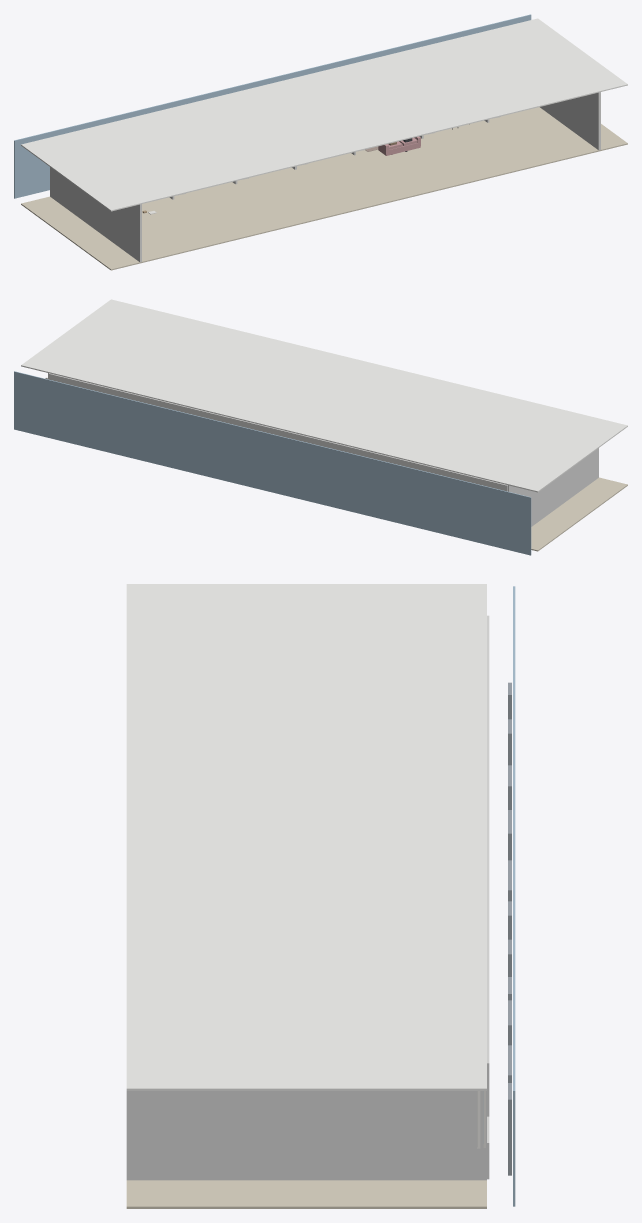
3 renders of one model, top to bottom at view 1: azimuth 30°, elevation 25°; view 2: azimuth 150°, elevation 25°; view 3: azimuth 270°, elevation 25°, orthographic. The views are drawn at different scales.
Parts seen in each view (by area): view 1: ceiling, floor, city_sky, endwall_L, endwall_R; view 2: ceiling, city_sky, floor, endwall_L, wall_above_0, wall_above_4, wall_above_5, wall_above_1, wall_above_2, wall_above_3, wall_above_6; view 3: ceiling, endwall_R, floor, city_sky.
Part boxes in pixels (box(x1,y1,x2,y2)): ceiling: box(21, 18, 627, 211); floor: box(21, 107, 627, 270); city_sky: box(14, 14, 531, 198); endwall_L: box(50, 167, 141, 262); endwall_R: box(540, 92, 600, 150); ceiling: box(21, 299, 627, 492); city_sky: box(14, 371, 531, 555); floor: box(531, 477, 627, 551); endwall_L: box(508, 448, 598, 526); wall_above_0: box(419, 463, 507, 491); wall_above_4: box(169, 403, 237, 425); wall_above_5: box(104, 387, 169, 408); wall_above_1: box(356, 448, 418, 469); wall_above_2: box(296, 434, 355, 454); wall_above_3: box(237, 419, 296, 439); wall_above_6: box(48, 373, 103, 392); ceiling: box(126, 584, 486, 1090); endwall_R: box(126, 1091, 486, 1180); floor: box(126, 1180, 486, 1208); city_sky: box(513, 586, 515, 1206).
Size of the model in its own units: 28.5 by 3.23 by 9.28.
